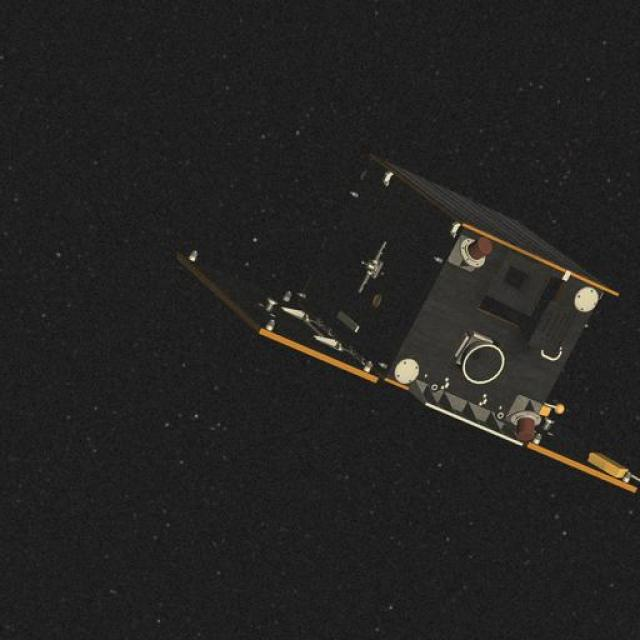proba_2: (198, 125, 640, 501)
